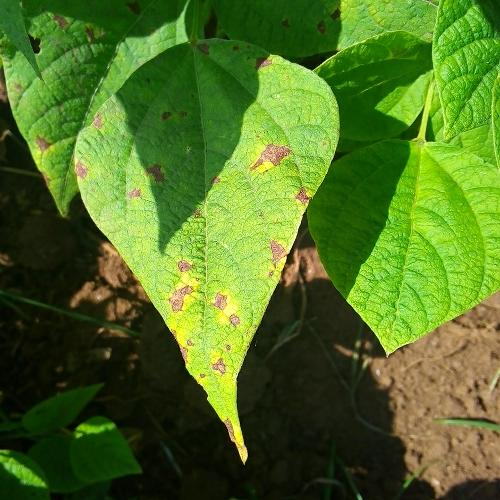hawar: (108, 205, 272, 423), (232, 70, 356, 252), (66, 63, 199, 212)
